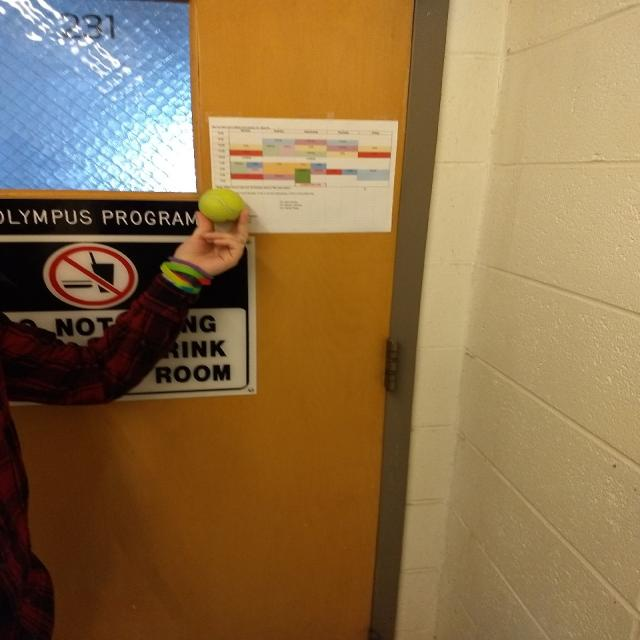Tennis-Ball: (197, 184, 248, 227)
